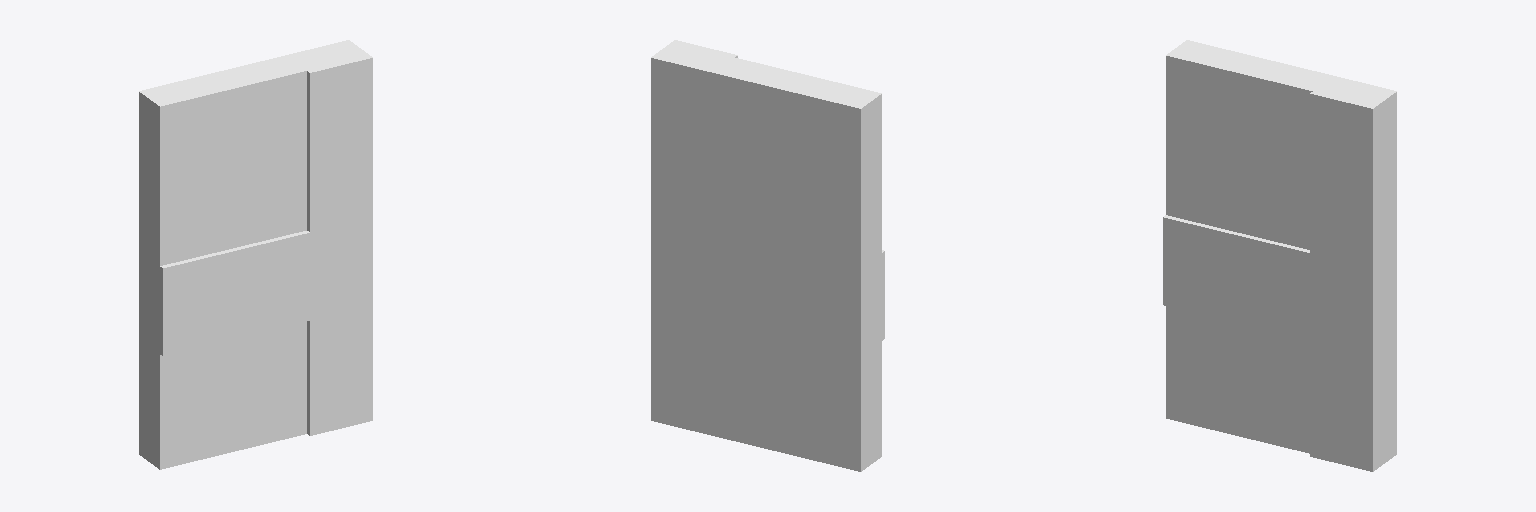
Rendered from bankDoor.obj.
3 renders of one model, left to right at view 1: azimuth 30°, elevation 25°; view 2: azimuth 150°, elevation 25°; view 3: azimuth 330°, elevation 25°, orthographic.
Visible parts, largest first — view 1: object 1; view 2: object 1; view 3: object 1.
Part boxes in pixels (bbox=[...]): object 1: bbox=[139, 40, 372, 469]; object 1: bbox=[651, 40, 884, 471]; object 1: bbox=[1163, 40, 1396, 471].
Size of the model in its own units: 4 by 6.6 by 0.8.